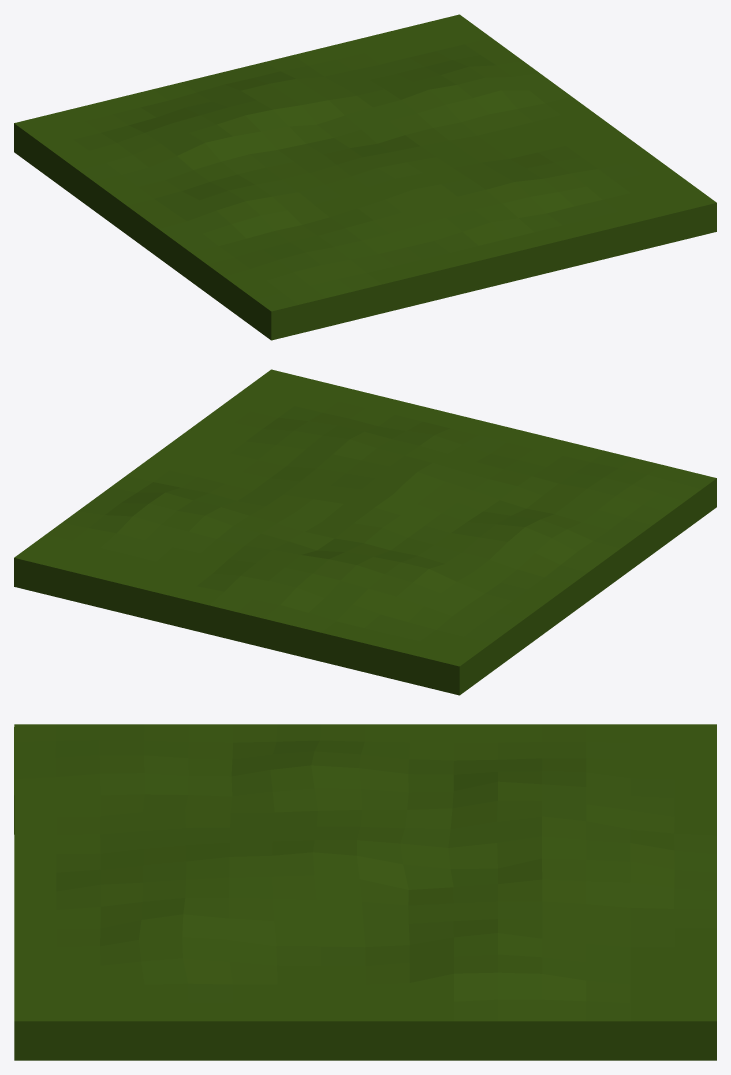
The model's file is Grass5.FBX.
3 views of the same model, one above another, from view 1: azimuth 30°, elevation 25°; view 2: azimuth 150°, elevation 25°; view 3: azimuth 270°, elevation 25° (orthographic). The views are drawn at different scales.
Parts seen in each view (by area): view 1: Terrain.059; view 2: Terrain.059; view 3: Terrain.059.
Part boxes in pixels (bbox=[...]): Terrain.059: bbox=[14, 14, 716, 340]; Terrain.059: bbox=[14, 369, 716, 695]; Terrain.059: bbox=[14, 724, 716, 1060].
Size of the model in its own units: 800 by 800 by 73.49.
